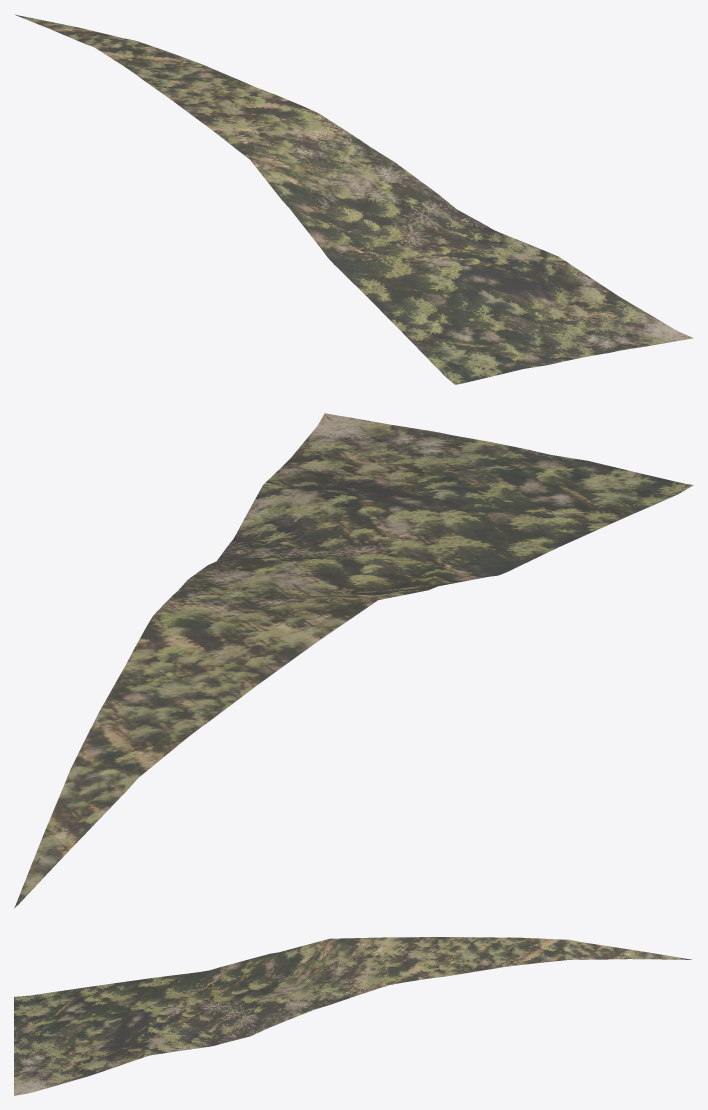
The model's file is CM_Terrain_24491073_6822660.fbx.
The picture shows the model from 3 angles, top to bottom: view 1: azimuth 30°, elevation 25°; view 2: azimuth 150°, elevation 25°; view 3: azimuth 270°, elevation 25°; orthographic projection. The views are drawn at different scales.
Parts seen in each view (by area): view 1: CM_Terrain_24491073_6822660_LOD0; view 2: CM_Terrain_24491073_6822660_LOD0; view 3: CM_Terrain_24491073_6822660_LOD0.
Part boxes in pixels (x1,y1,x2,y2): CM_Terrain_24491073_6822660_LOD0: [15, 14, 693, 384]; CM_Terrain_24491073_6822660_LOD0: [14, 413, 693, 908]; CM_Terrain_24491073_6822660_LOD0: [14, 937, 691, 1095].
Size of what is drawn, in the model's own units: 53.27 by 18.99 by 170.
